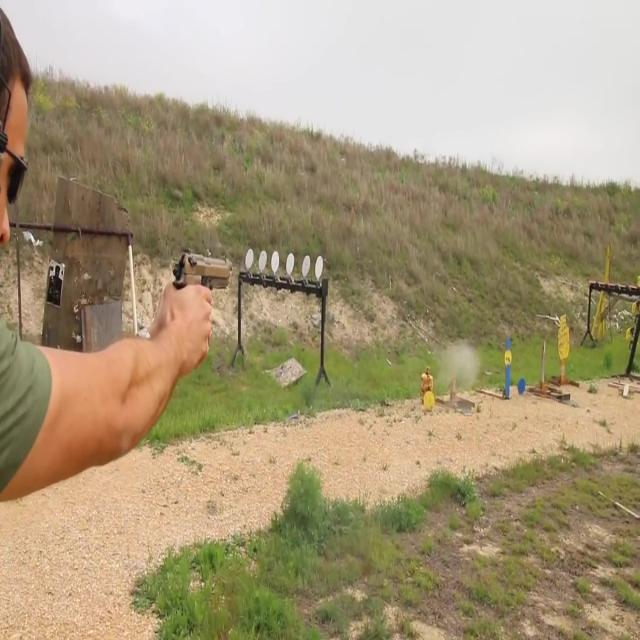Weapon: (158, 207, 284, 374)
